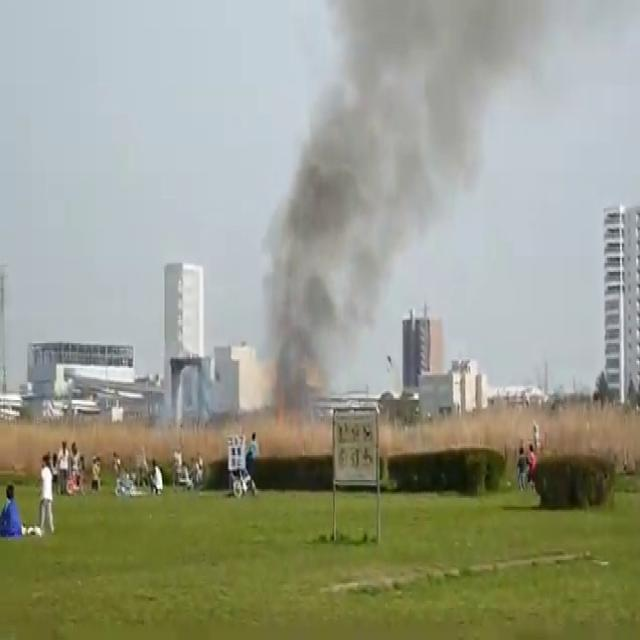Smoke: (239, 0, 506, 434)
